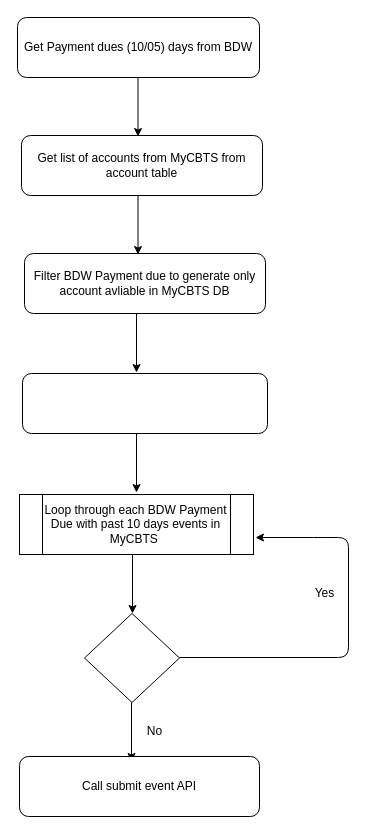
Some shapes in this 374 by 834 pixel diagram are drawn without their labels. Here are the shapes that lost their labels. From the top down, the centre of each, then its label:
(145,403): Get Past 10 days events from MyCBTS DB
(132,657): Duplicate Event
